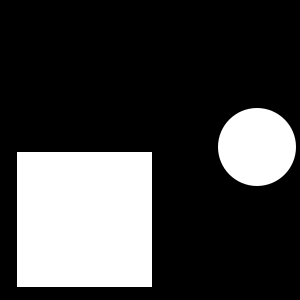circle: (17, 152, 152, 287)
rectangle: (218, 108, 296, 186)
